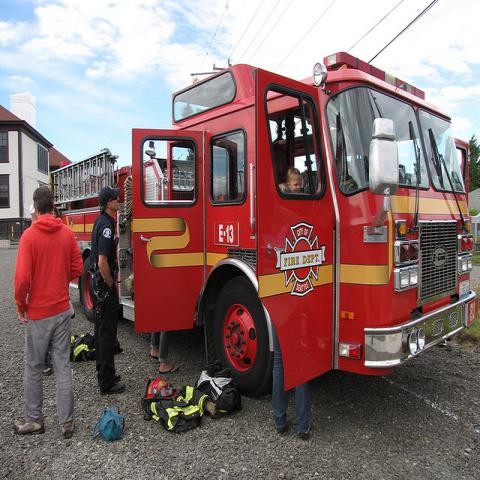truck: (52, 52, 476, 387)
